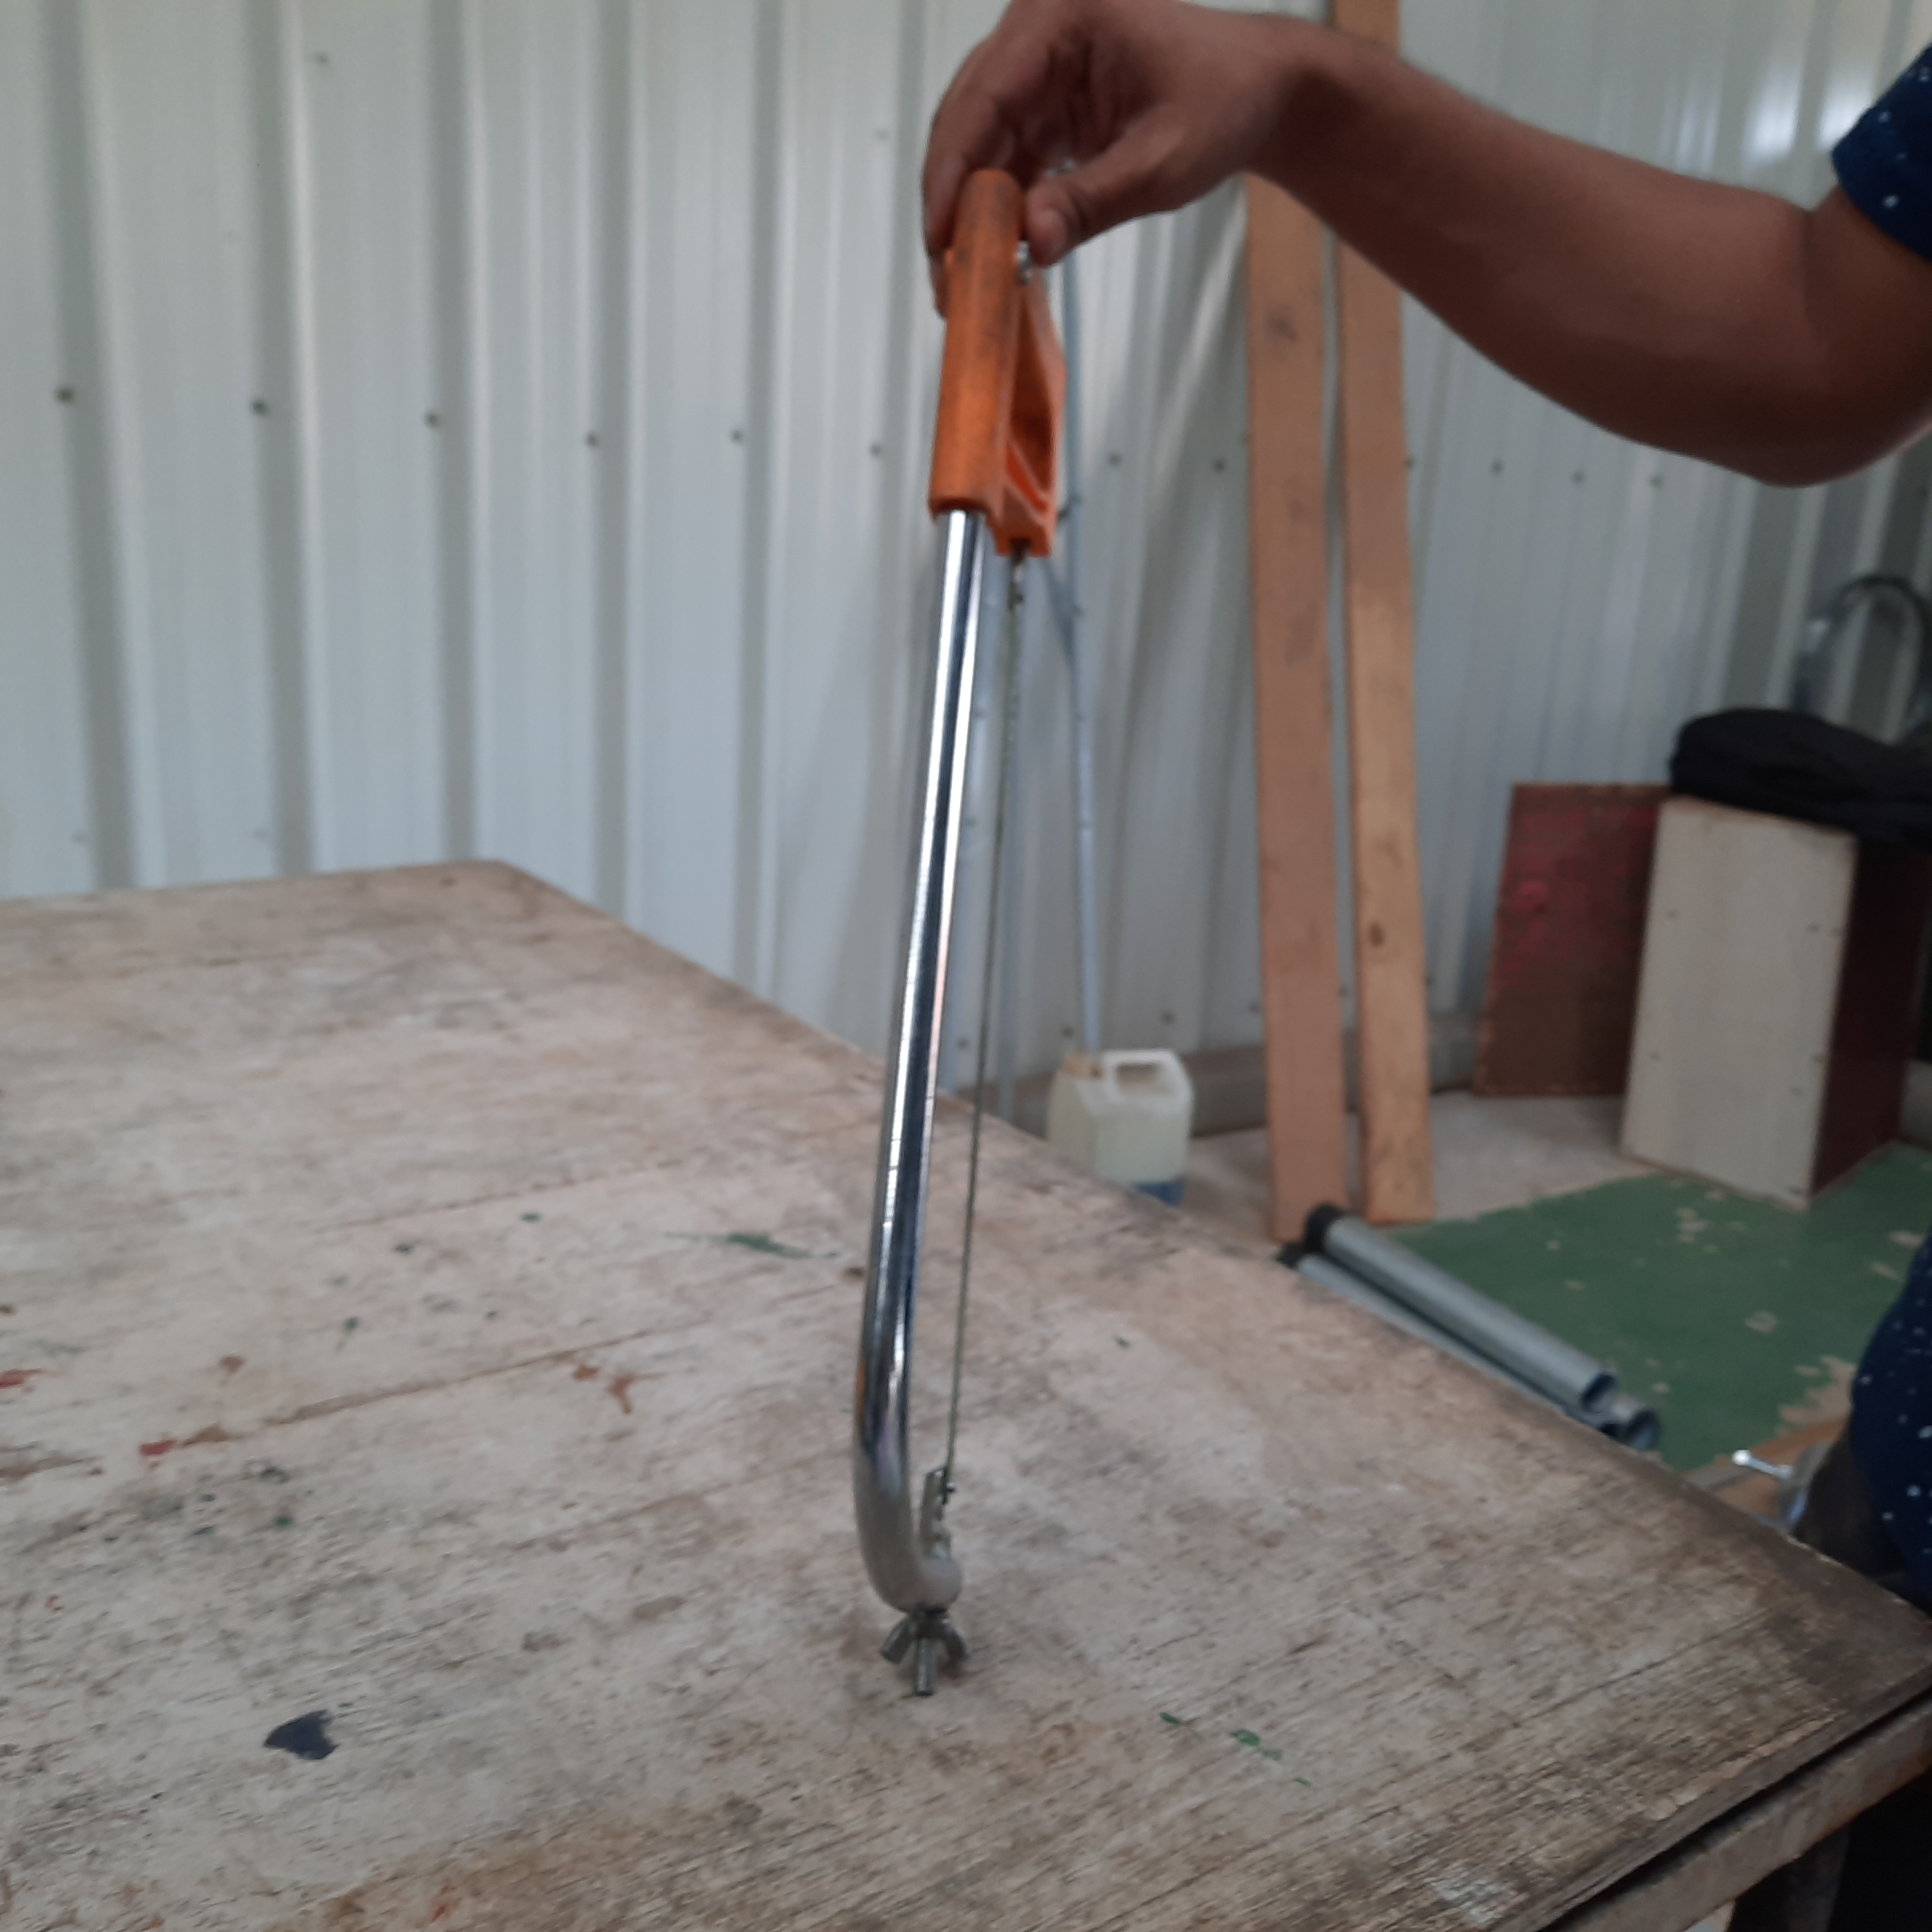Hexaframe: (786, 159, 1182, 1718)
